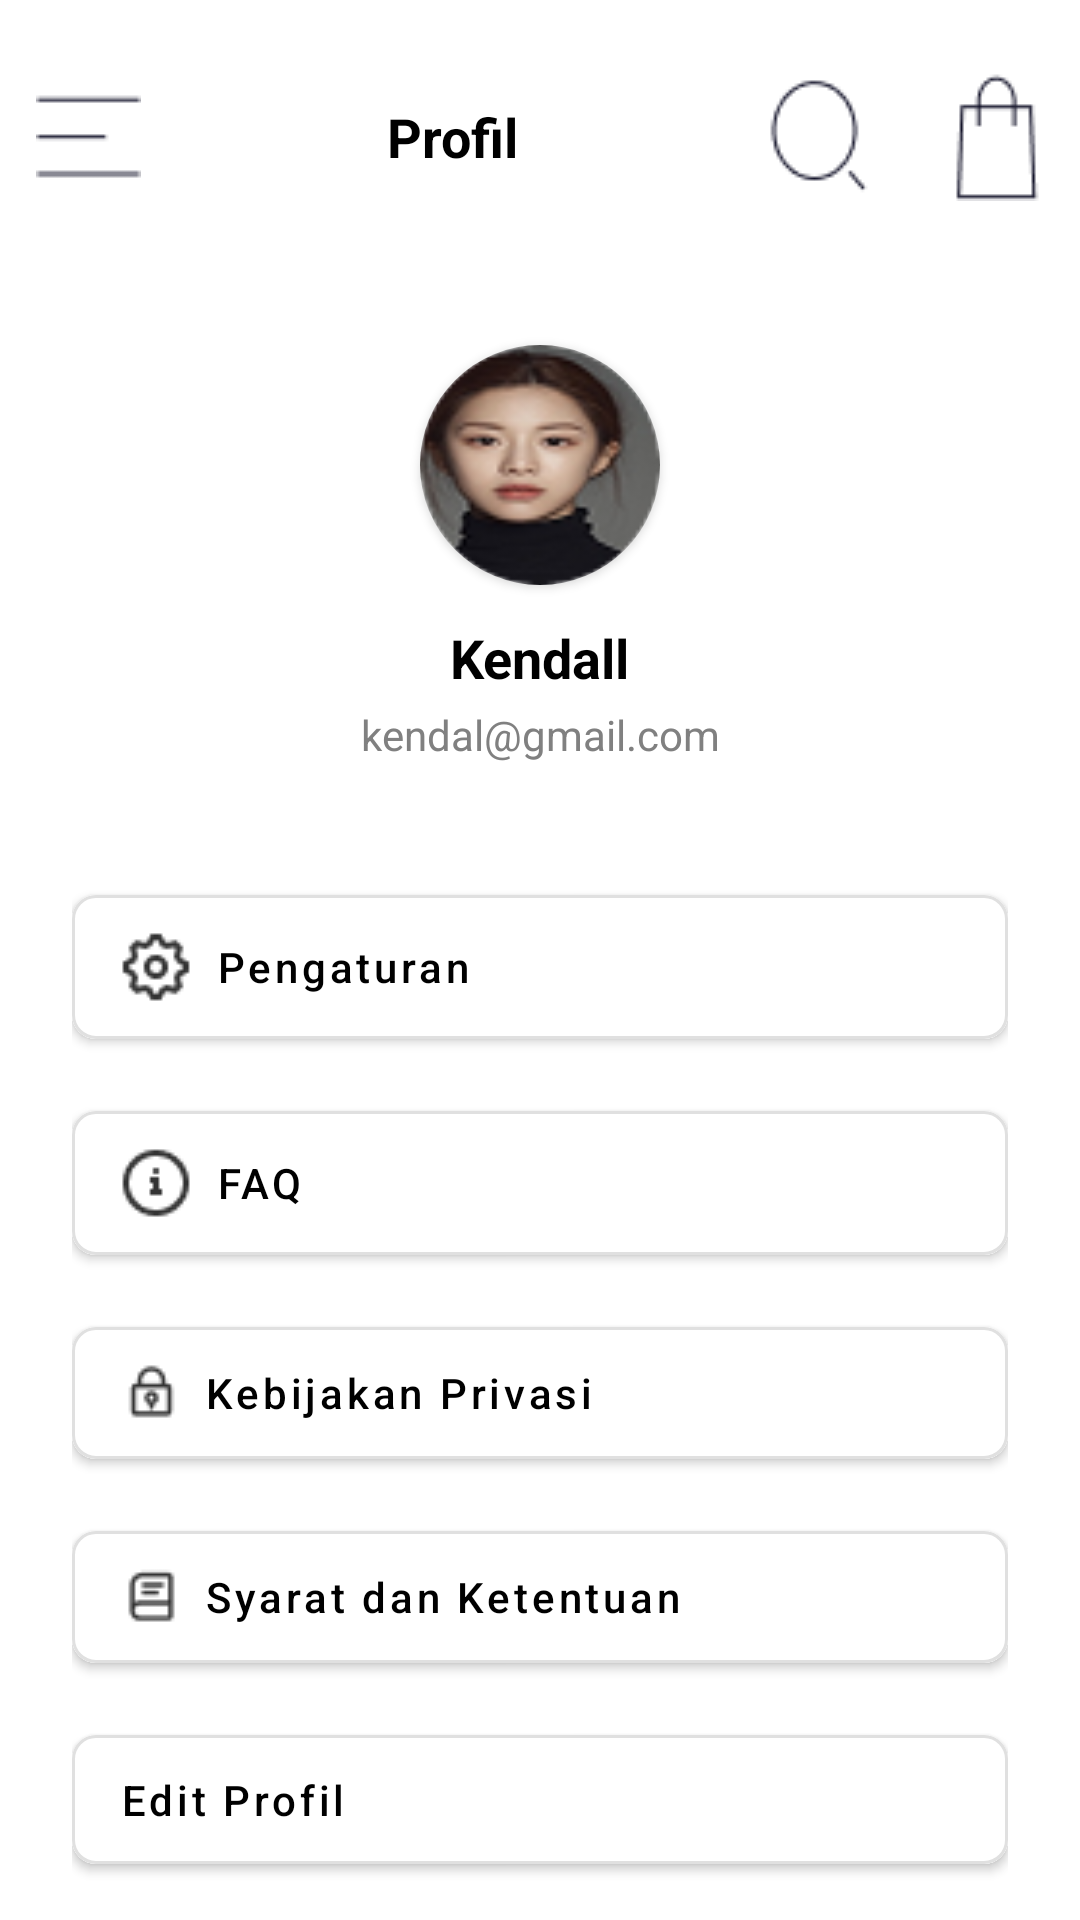

Named icons in this screenshot (1080×1920) and their bounding boxes, rect(x1, y1, x2, y2):
Cart: rect(956, 75, 1038, 201)
Menu: rect(36, 96, 141, 178)
Search: rect(770, 80, 866, 190)
user profile: rect(420, 345, 660, 585)
